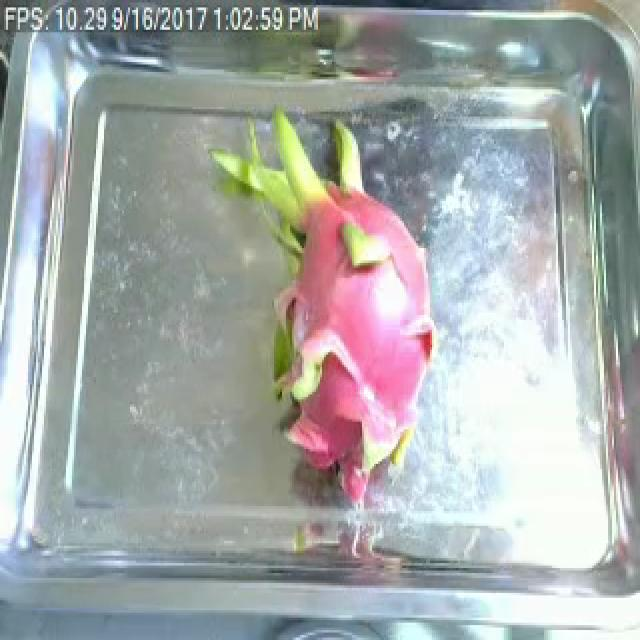fruit: (212, 112, 446, 516)
